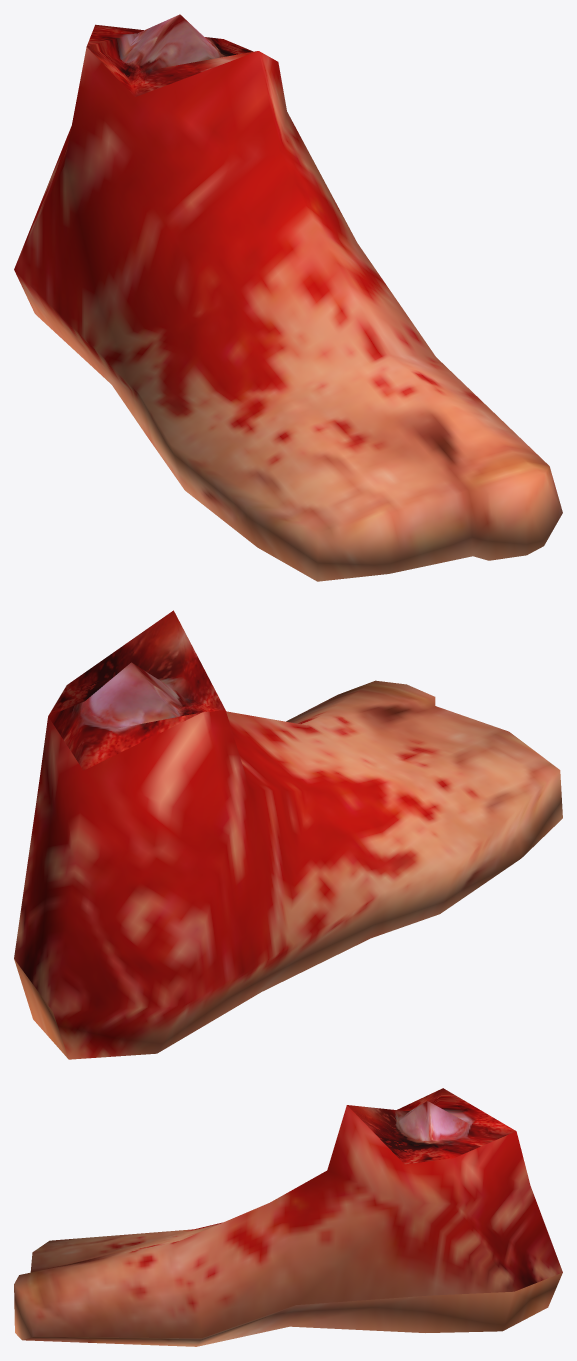
File: male_right_foot.fbx
3 renders of one model, top to bottom at view 1: azimuth 30°, elevation 25°; view 2: azimuth 150°, elevation 25°; view 3: azimuth 270°, elevation 25°, orthographic. The views are drawn at different scales.
Parts seen in each view (by area): view 1: rt_foot_gib; view 2: rt_foot_gib; view 3: rt_foot_gib.
Boxes of the visible parts, x1,y1,x2,y2 form: rt_foot_gib: [14, 14, 562, 581]; rt_foot_gib: [14, 610, 562, 1059]; rt_foot_gib: [14, 1088, 562, 1346].
Bounding box in the file's own units: 0.1309 × 0.1592 × 0.3474.
